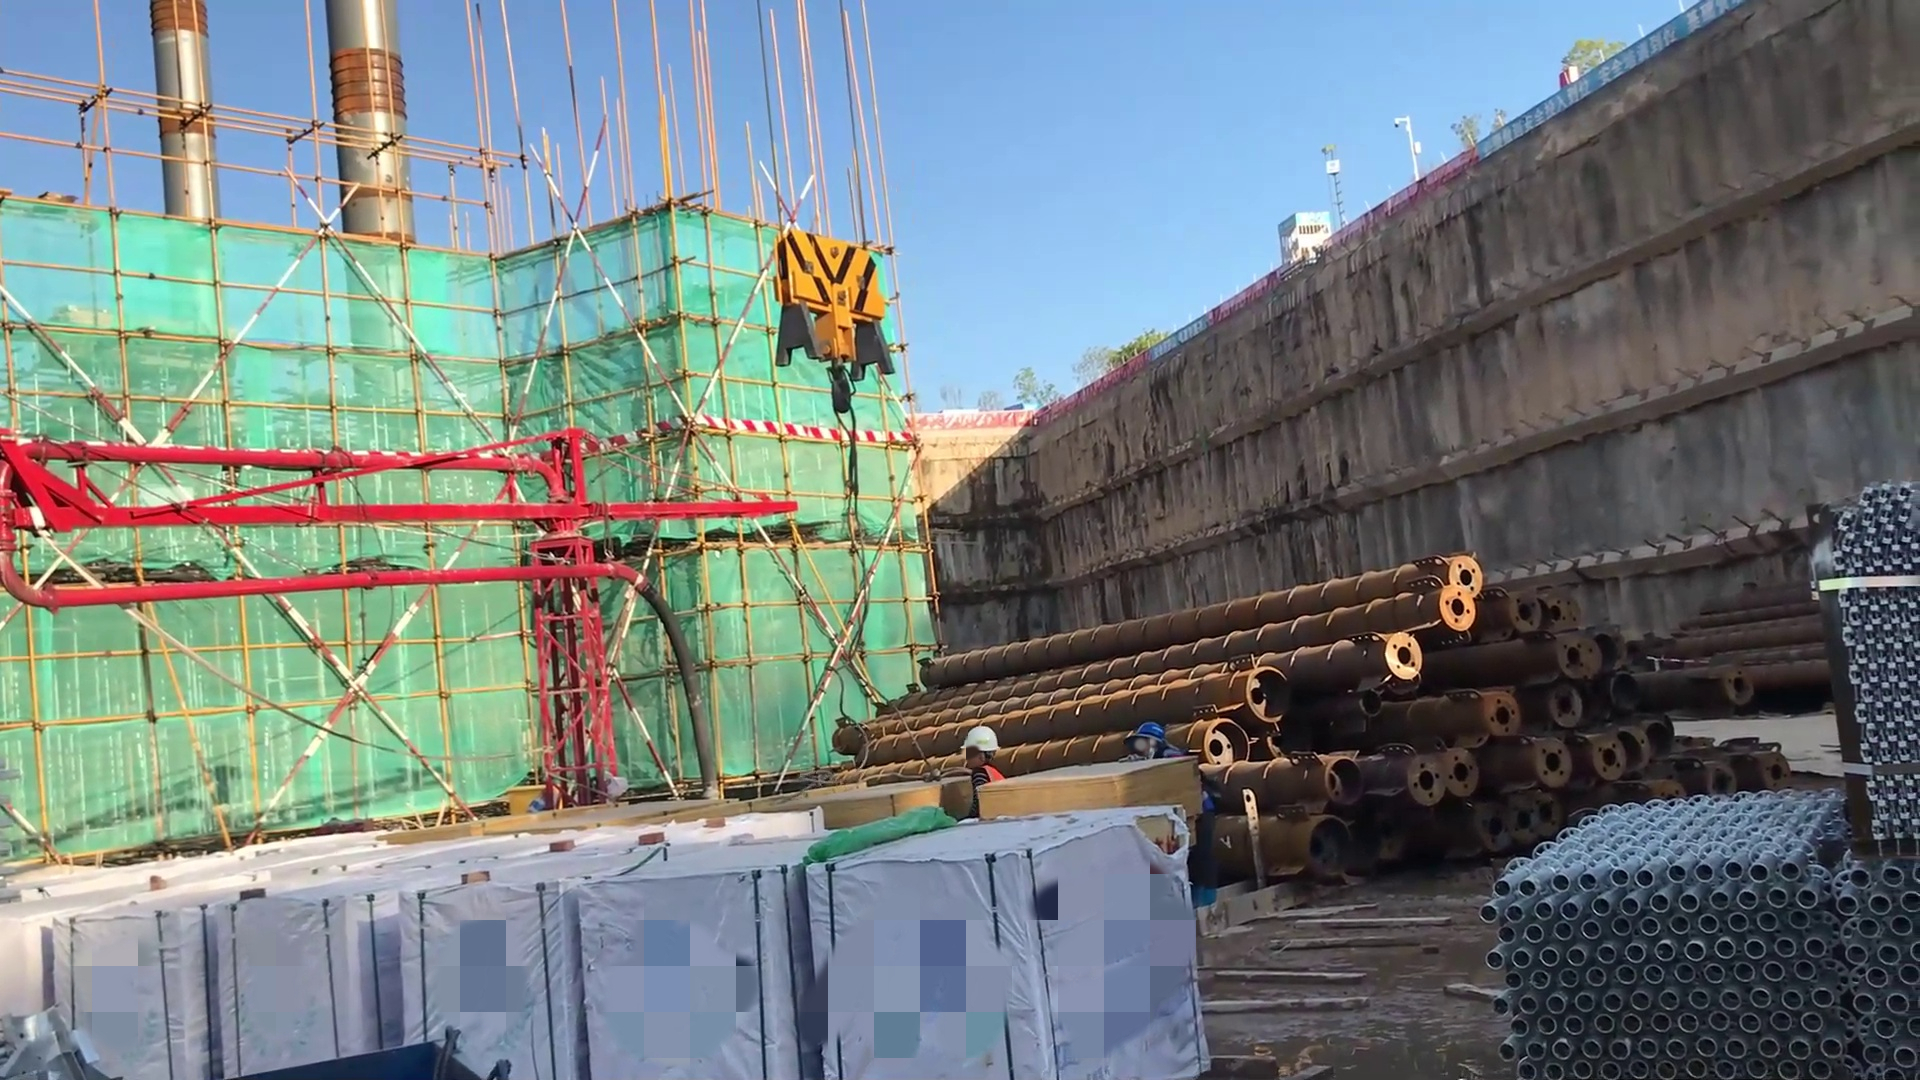board: (979, 748, 1212, 852)
ebox: (509, 776, 558, 839)
helmet: (962, 718, 1005, 769), (1126, 715, 1170, 763)
hook: (752, 220, 944, 512)
person: (1121, 715, 1223, 941), (940, 712, 1014, 830)
scaffold: (1499, 788, 1920, 1080), (1841, 460, 1918, 892)
slogan: (1484, 1, 1750, 176), (1147, 313, 1213, 366)
